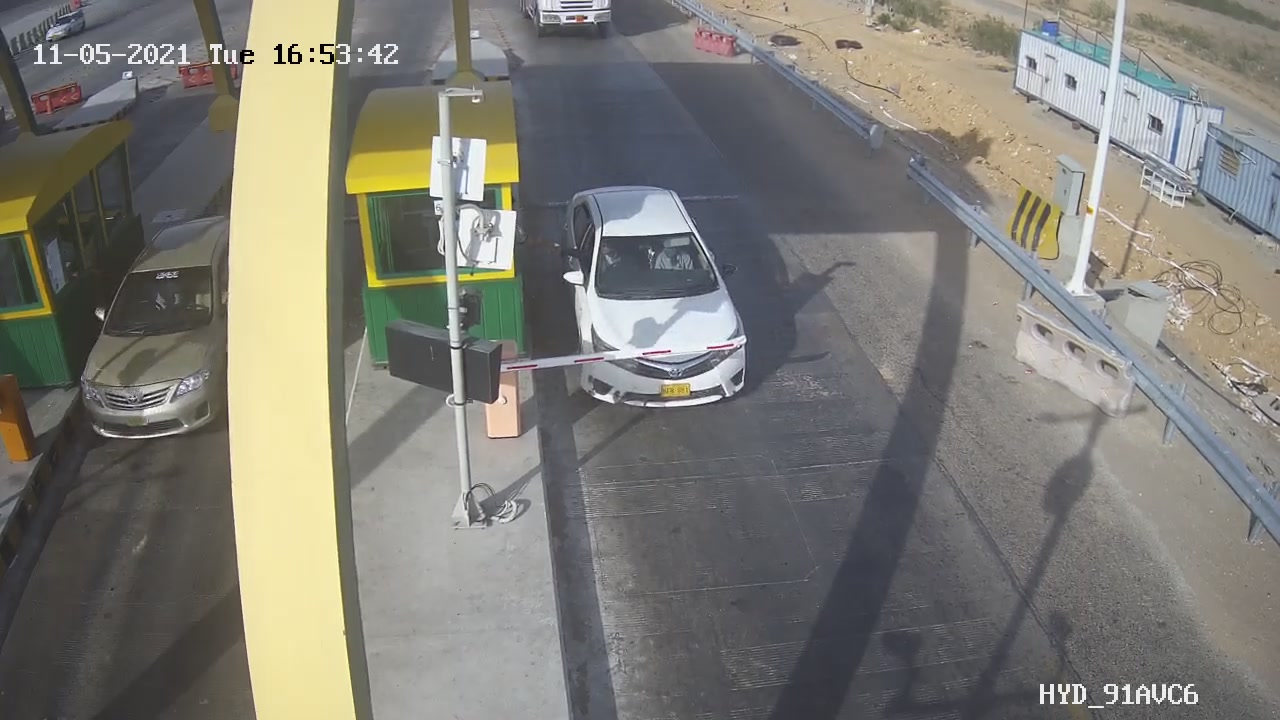F1: (543, 166, 766, 427)
